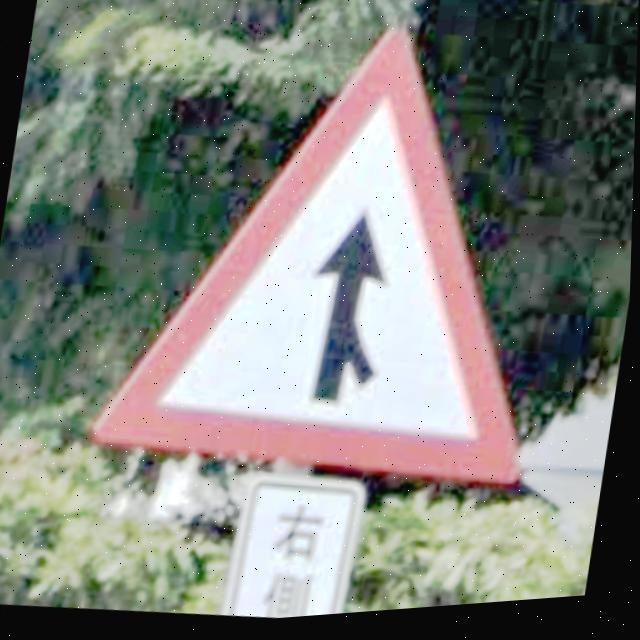rightmerge: (96, 36, 525, 494)
